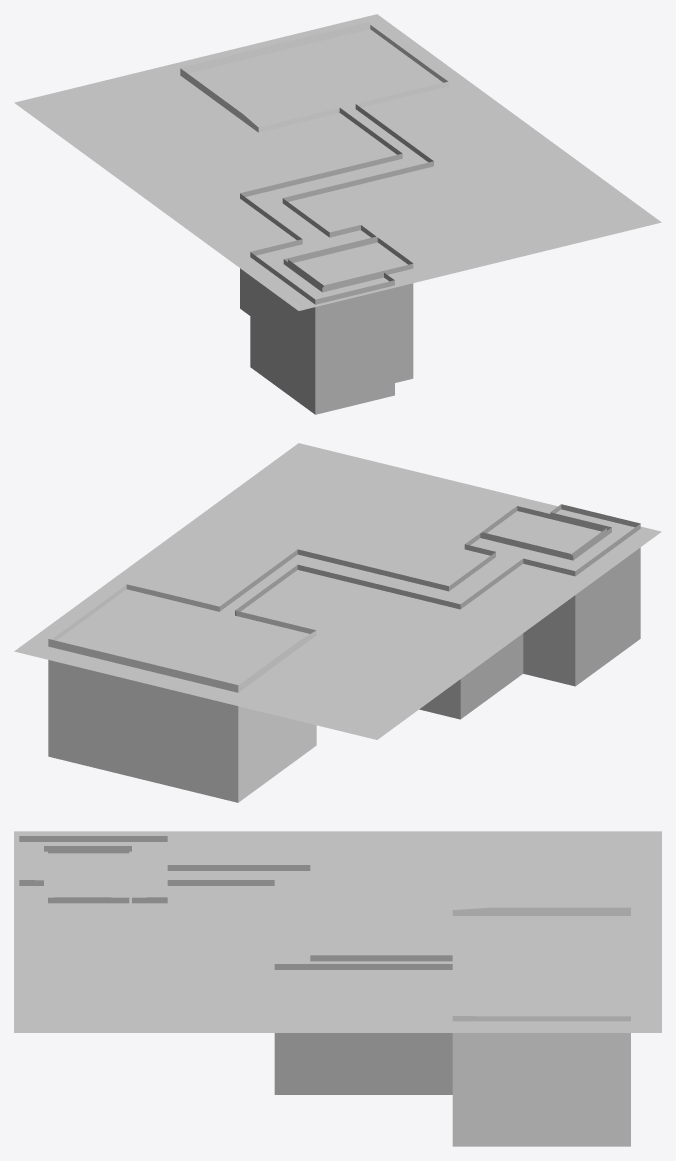
The model's file is scene_global_fbxTest.fbx.
The picture shows the model from 3 angles, top to bottom: view 1: azimuth 30°, elevation 25°; view 2: azimuth 150°, elevation 25°; view 3: azimuth 270°, elevation 25°; orthographic projection. The views are drawn at different scales.
Parts seen in each view (by area): view 1: plafond, murs, salleop; view 2: plafond, salleop, murs; view 3: plafond, salleop, murs.
Part boxes in pixels (x1,y1,x2,y2): plafond: (14, 14, 661, 310); murs: (240, 104, 433, 414); salleop: (180, 21, 448, 132); plafond: (14, 443, 661, 739); salleop: (48, 584, 316, 802); murs: (219, 504, 640, 719); plafond: (14, 831, 661, 1032); salleop: (452, 907, 630, 1146); murs: (19, 836, 452, 1094).
Bounding box in the file's own units: 54.61 × 16.91 × 74.14.
